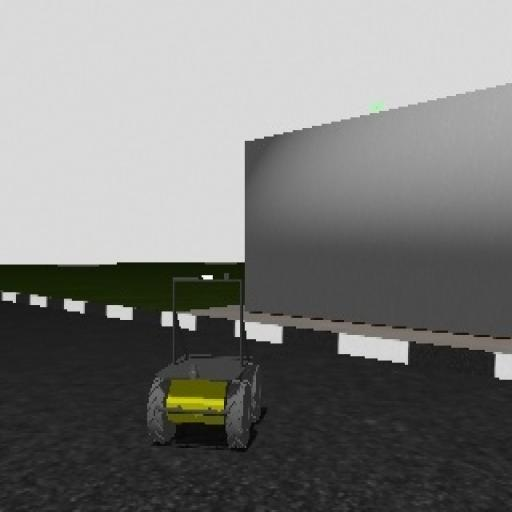huskya200: (140, 266, 272, 464)
